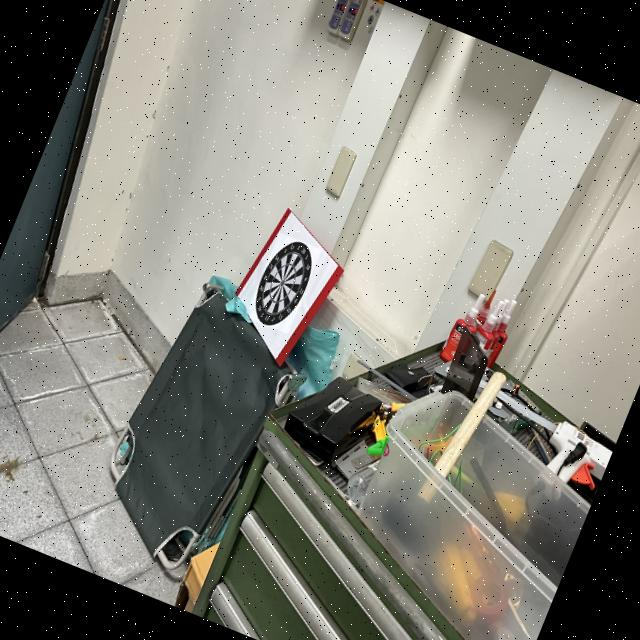archery-targets: (244, 232, 322, 334)
